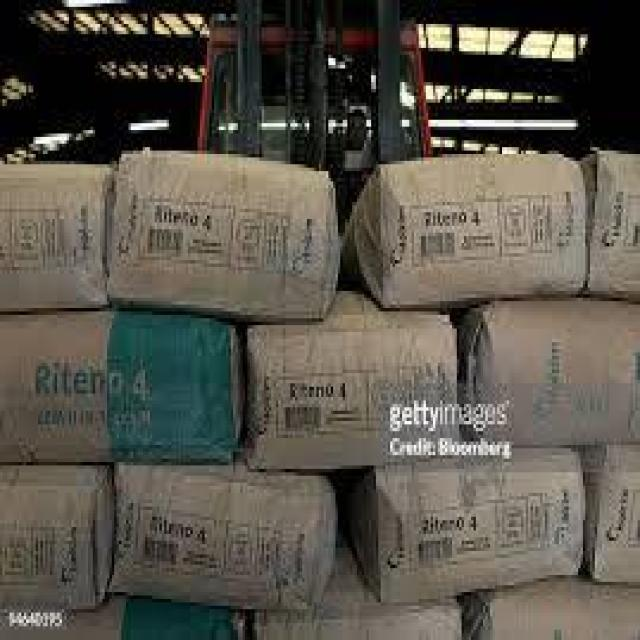gunny_bag: (0, 313, 232, 465), (372, 441, 589, 601), (113, 154, 328, 313), (251, 313, 462, 469), (381, 154, 583, 306), (117, 469, 334, 609), (469, 306, 640, 445), (1, 465, 112, 613), (0, 164, 111, 306), (585, 147, 640, 299), (587, 441, 640, 590)
